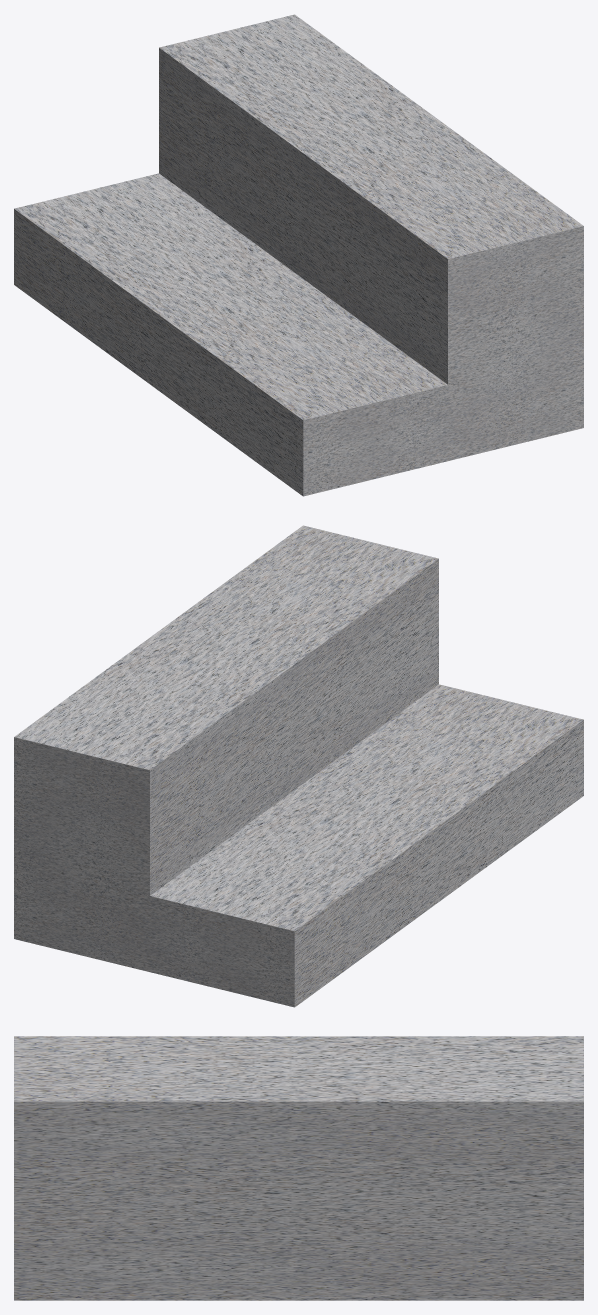
The model's file is SM_StoneStair.fbx.
The picture shows the model from 3 angles, top to bottom: view 1: azimuth 30°, elevation 25°; view 2: azimuth 150°, elevation 25°; view 3: azimuth 270°, elevation 25°; orthographic projection.
Parts seen in each view (by area): view 1: SM_StoneStair; view 2: SM_StoneStair; view 3: SM_StoneStair.
Part boxes in pixels (x1,y1,x2,y2): SM_StoneStair: (14,14,583,496); SM_StoneStair: (14,525,583,1007); SM_StoneStair: (14,1036,583,1300).
Bounding box in the file's own units: 72.04 × 128 × 49.5.
1 material, 1 textured.
